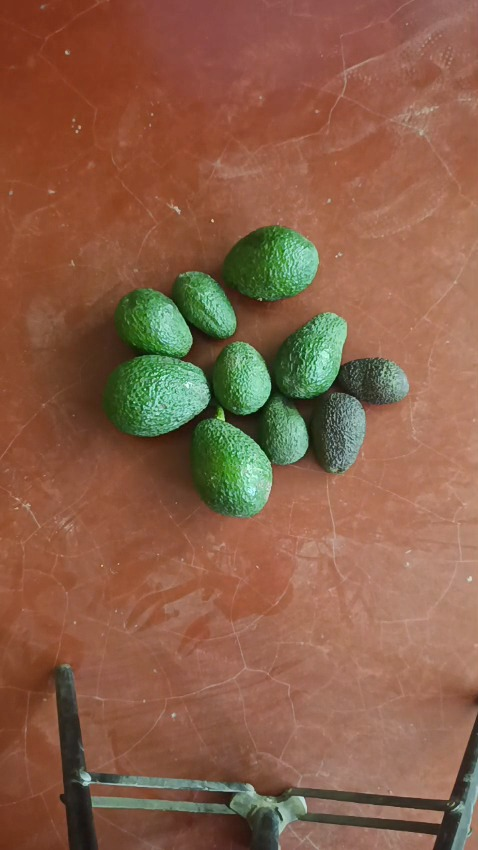Primera: (101, 355, 212, 436), (190, 408, 272, 515)
Segunda: (222, 225, 319, 302), (272, 313, 348, 400)
Tercera: (113, 287, 195, 359), (309, 391, 366, 473), (211, 341, 273, 416), (171, 271, 237, 341), (257, 391, 307, 465), (336, 357, 409, 405)
